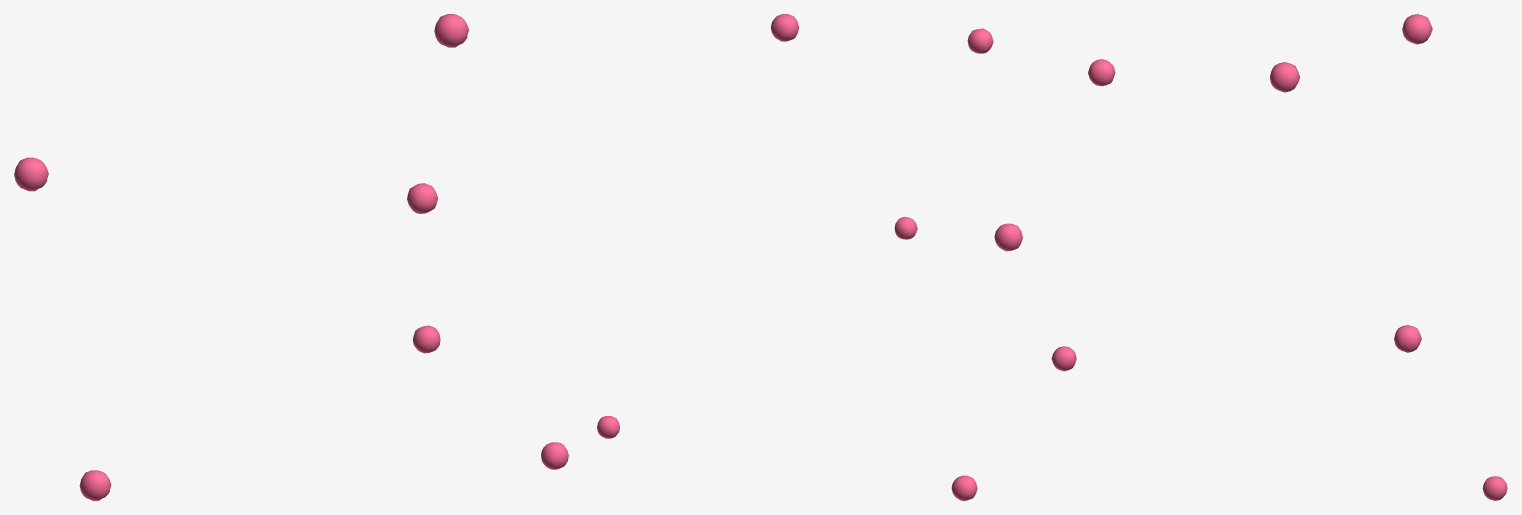
File: Lyosomes.fbx
The picture shows the model from 3 angles, left to right: view 1: azimuth 30°, elevation 25°; view 2: azimuth 150°, elevation 25°; view 3: azimuth 270°, elevation 25°; orthographic projection. The views are drawn at different scales.
Parts seen in each view (by area): view 1: Lysosome_03, Lysosome_03_1, Lysosome_02, Lysosome_04, Lysosome_01, Lysosome_05; view 2: Lysosome_03, Lysosome_03_1, Lysosome_02, Lysosome_04; view 3: Lysosome_03, Lysosome_03_1, Lysosome_02, Lysosome_04, Lysosome_05.
Part boxes in pixels (left/top/right/bottom): Lysosome_03: left=14, top=157, right=48, bottom=191; Lysosome_03_1: left=434, top=14, right=468, bottom=47; Lysosome_02: left=79, top=470, right=111, bottom=500; Lysosome_04: left=407, top=183, right=437, bottom=213; Lysosome_01: left=412, top=325, right=440, bottom=353; Lysosome_05: left=541, top=442, right=568, bottom=469; Lysosome_03: left=994, top=223, right=1022, bottom=251; Lysosome_03_1: left=770, top=14, right=798, bottom=41; Lysosome_02: left=951, top=475, right=977, bottom=500; Lysosome_04: left=967, top=28, right=993, bottom=53; Lysosome_03: left=1402, top=14, right=1432, bottom=44; Lysosome_03_1: left=1269, top=62, right=1300, bottom=92; Lysosome_02: left=1394, top=325, right=1421, bottom=352; Lysosome_04: left=1088, top=59, right=1115, bottom=86; Lysosome_05: left=1051, top=346, right=1076, bottom=371.
Bounding box in the file's own units: 2564 × 2441 × 2451.
